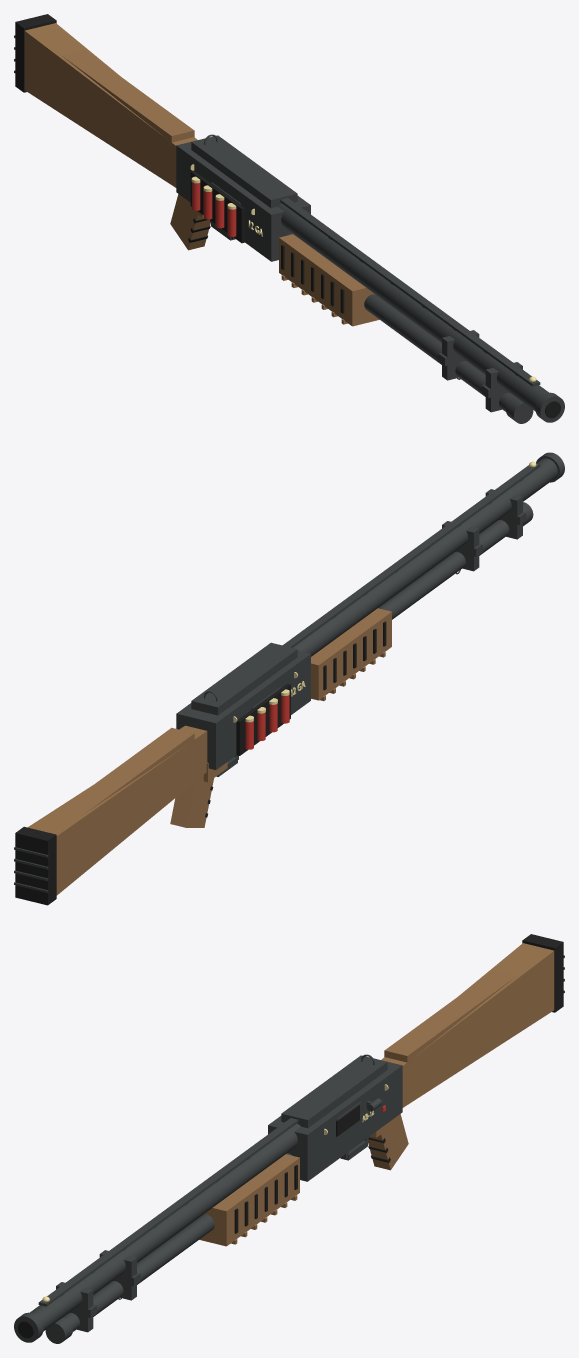
Rendered from shotgun.fbx.
3 renders of one model, top to bottom at view 1: azimuth 30°, elevation 25°; view 2: azimuth 150°, elevation 25°; view 3: azimuth 330°, elevation 25°, orthographic.
Parts seen in each view (by area): view 1: ShotgunMesh; view 2: ShotgunMesh; view 3: ShotgunMesh.
Boxes of the visible parts, box(x1,y1,x2,y2) form: ShotgunMesh: box(14, 14, 564, 423); ShotgunMesh: box(14, 452, 564, 905); ShotgunMesh: box(14, 934, 564, 1343).
Size of the model in its own units: 3.57 by 53.34 by 7.
